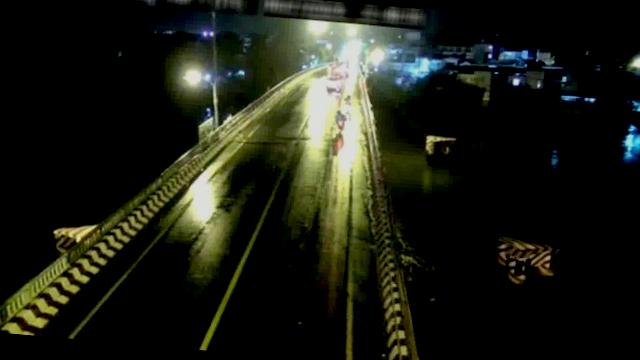Bike: (333, 109, 346, 132)
